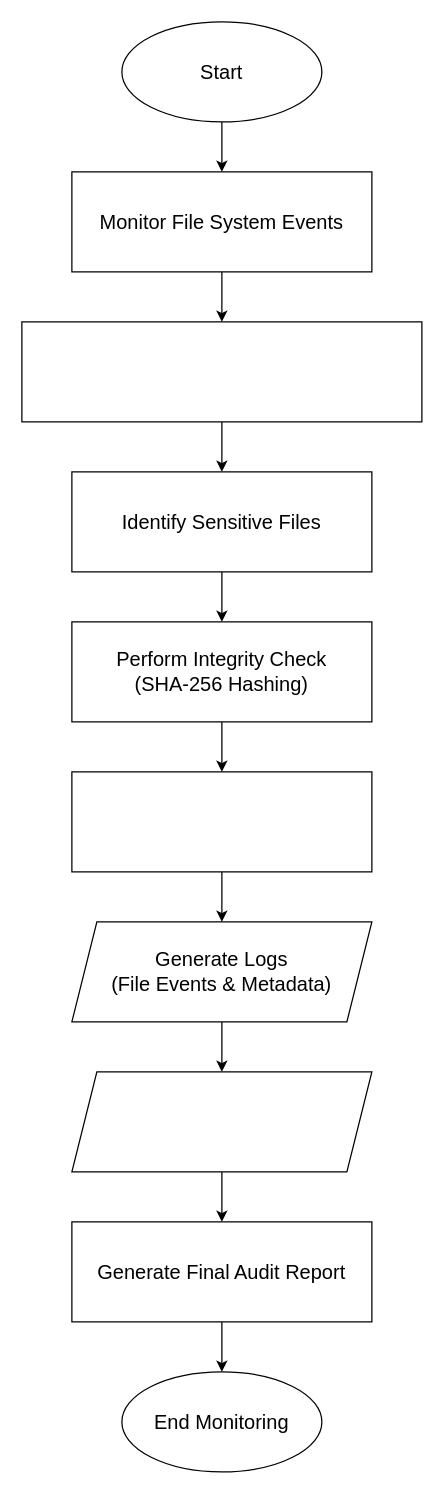
This 444x1494 diagram has some shape labels left out. The centre of each missing label's shape, as x and y in pixels:
"Check Authorization & Destination Policy" belongs at pixel 221 821.
"Detect File Operation (Create / Modify / Move / Delete)" belongs at pixel 221 371.
"Generate Alert (If Violation Detected)" belongs at pixel 221 1121.
